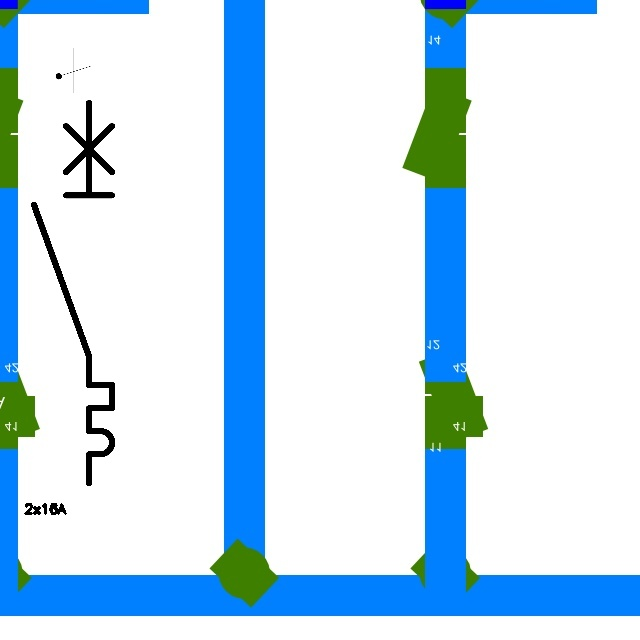interruptor_termomagnetico: (24, 93, 122, 492)
